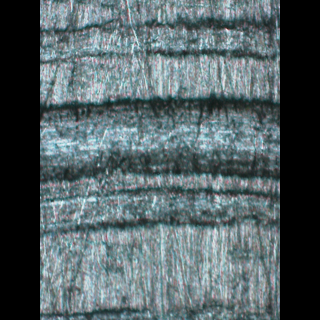d: (40, 93, 279, 234), (40, 5, 278, 67)
